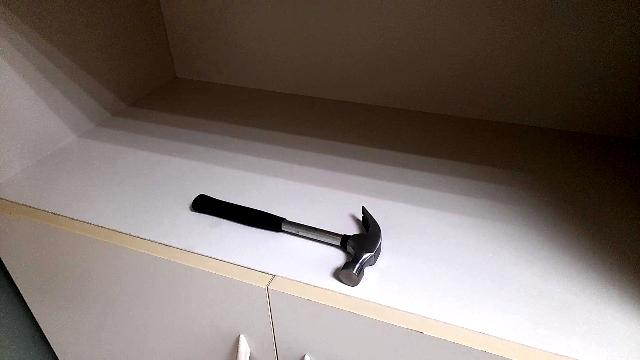hammer: (181, 182, 387, 288)
